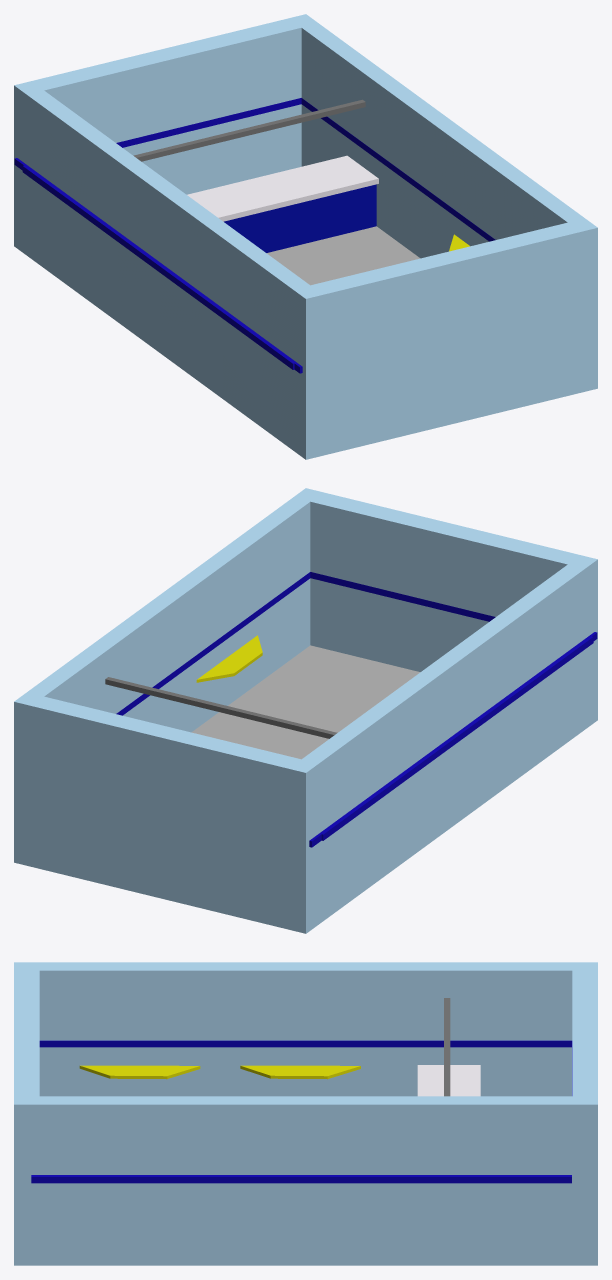
File: Post-office-static-env.fbx
3 renders of one model, top to bottom at view 1: azimuth 30°, elevation 25°; view 2: azimuth 150°, elevation 25°; view 3: azimuth 270°, elevation 25°, orthographic.
Visible parts, largest first — view 1: Room, Counter-Board, Wall-Frame, Counter, Pole; view 2: Room, Wall-Frame, Pole, Shelf_2; view 3: Room, Wall-Frame, Counter-Board, Shelf_1, Shelf_3, Pole.
Boxes of the visible parts, x1,y1,x2,y2 form: Room: (14, 14, 597, 459); Counter-Board: (187, 155, 378, 221); Wall-Frame: (14, 98, 495, 373); Counter: (224, 184, 376, 252); Pole: (133, 99, 365, 161); Room: (14, 488, 597, 933); Wall-Frame: (116, 572, 597, 847); Pole: (105, 677, 337, 738); Shelf_2: (196, 635, 262, 682); Room: (14, 962, 597, 1265); Wall-Frame: (31, 1040, 572, 1183); Counter-Board: (417, 1065, 480, 1096); Shelf_1: (79, 1065, 200, 1079); Shelf_3: (240, 1065, 360, 1079); Pole: (444, 998, 450, 1096).
Bounding box in the file's own units: 1239 × 2083 × 633.
